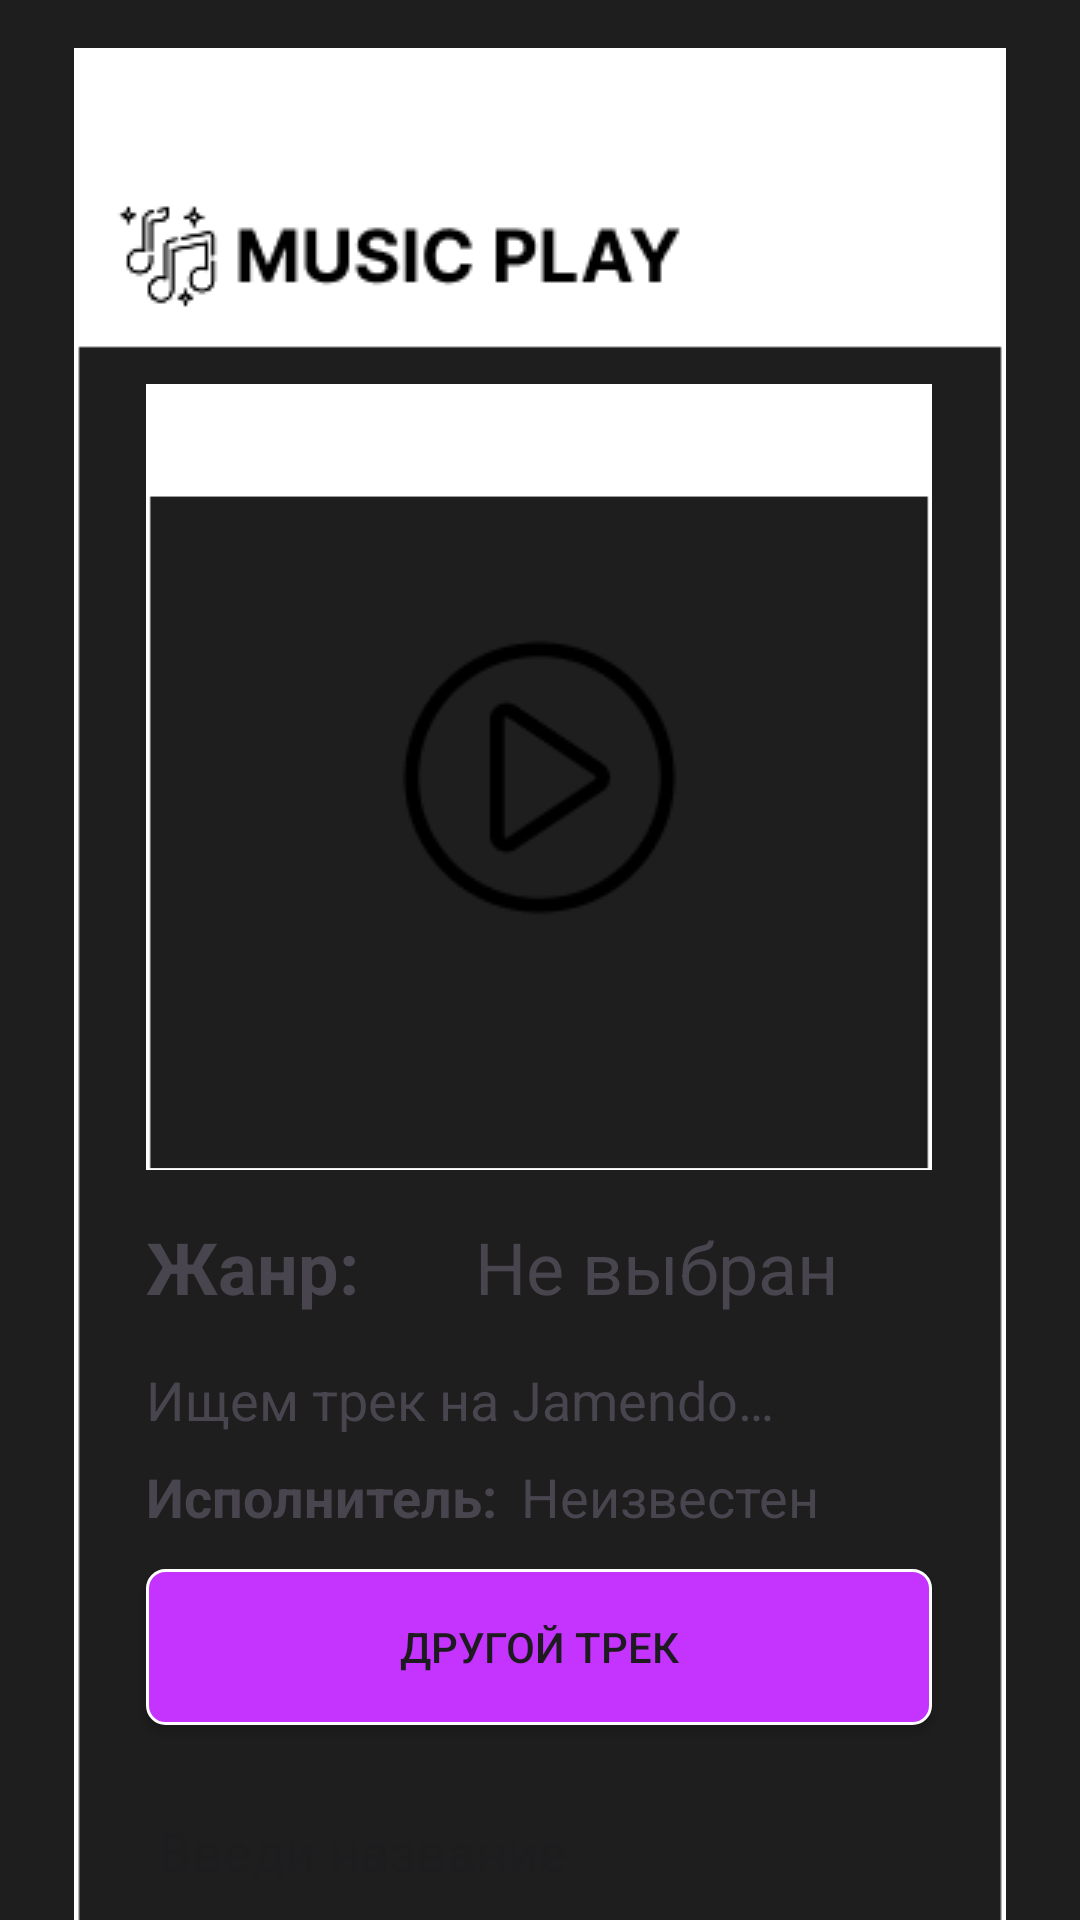

Where icons sit on this 1080 × 1920 app screen, as (x1, y1, x2, y2):
Запуск прослушивания: (406, 644, 673, 911)
